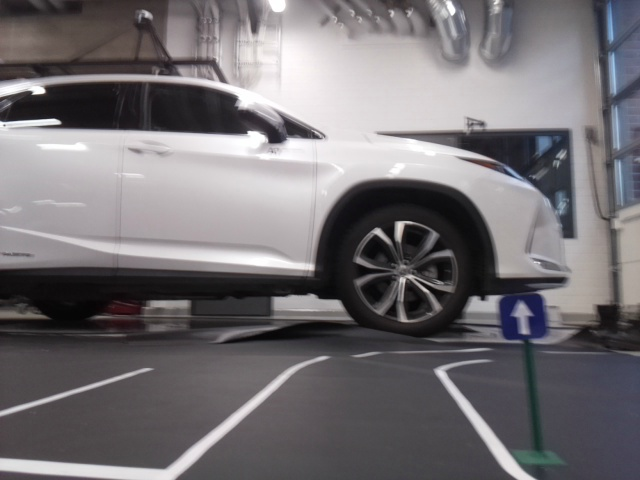OneWay: (499, 296, 547, 337)
